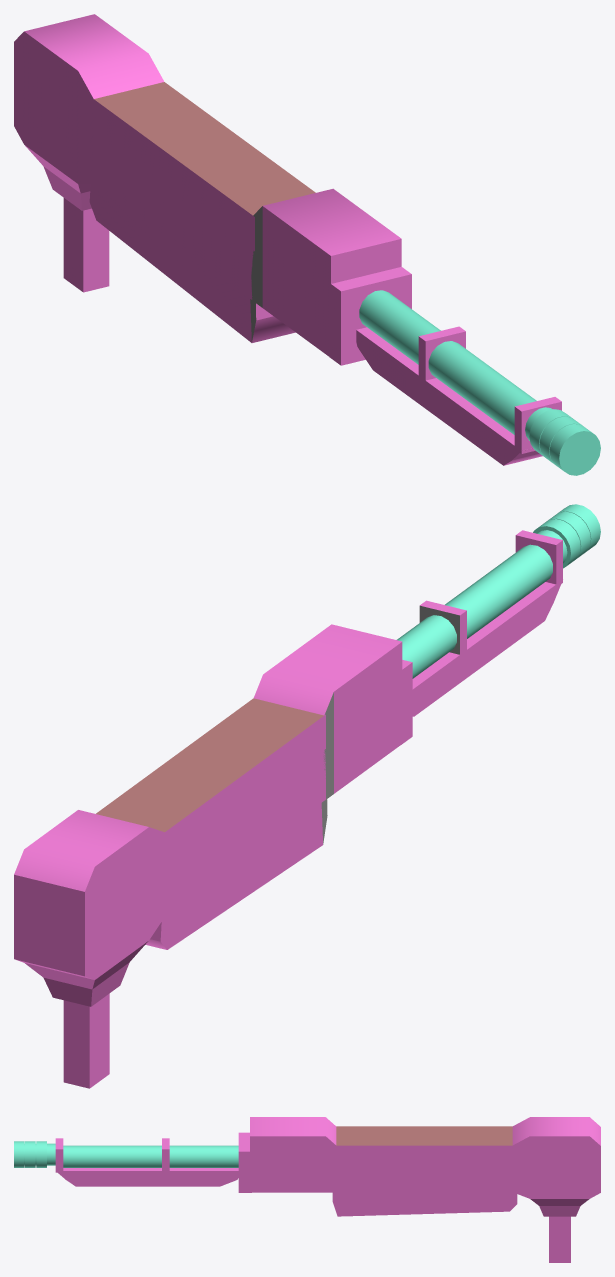
File: Fusil3coup.FBX
3 views of the same model, one above another, from view 1: azimuth 30°, elevation 25°; view 2: azimuth 150°, elevation 25°; view 3: azimuth 270°, elevation 25° (orthographic). The views are drawn at different scales.
Visible parts, largest first — view 1: Fusil3coup; view 2: Fusil3coup; view 3: Fusil3coup.
Boxes of the visible parts, x1,y1,x2,y2 form: Fusil3coup: [14, 14, 600, 475]; Fusil3coup: [14, 504, 600, 1088]; Fusil3coup: [14, 1117, 600, 1262].
Size of the model in its own units: 119 by 385 by 1544.
